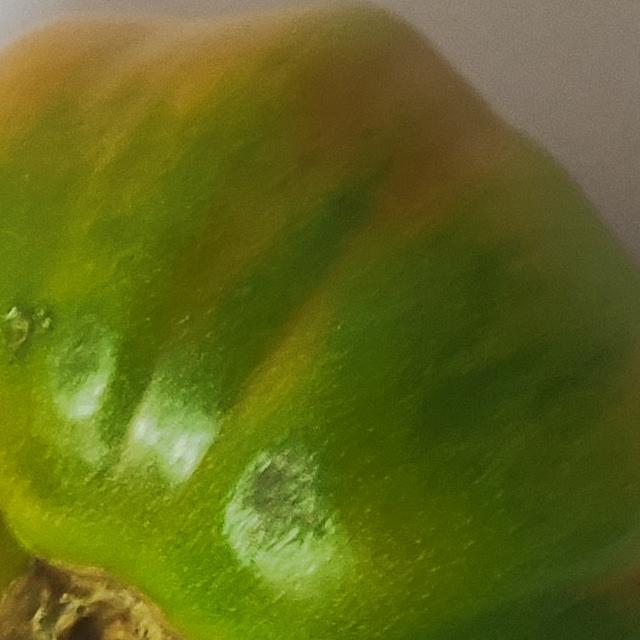tomato: (0, 4, 640, 640)
